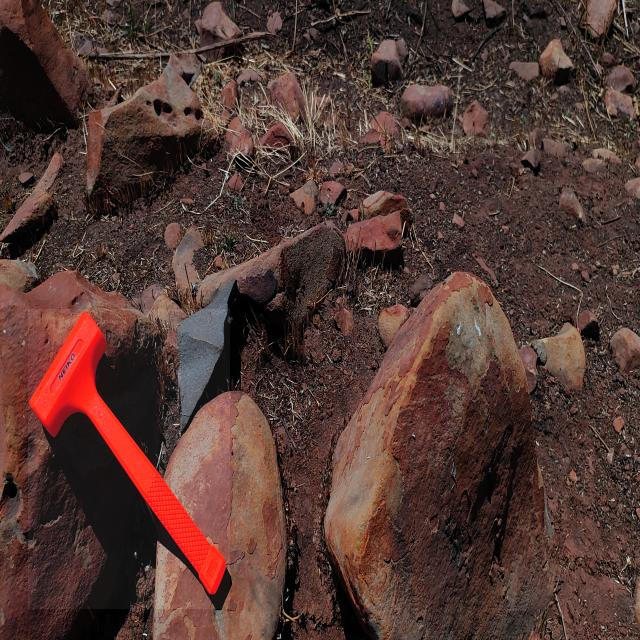Orange_hammer: (28, 309, 230, 609)
